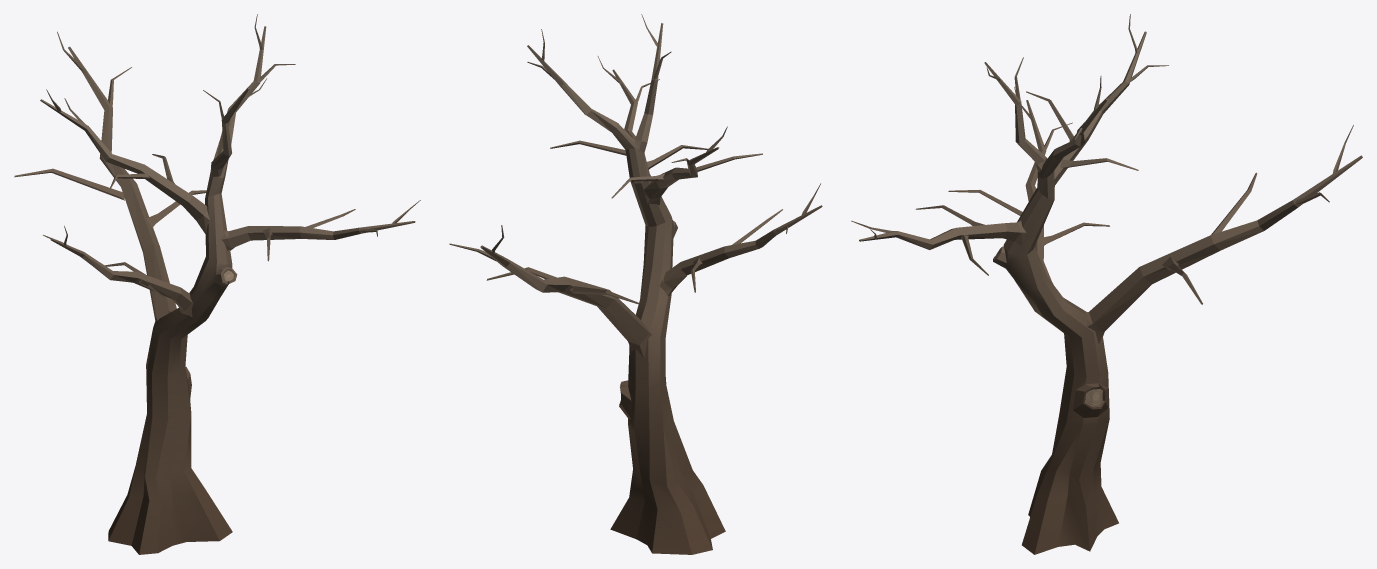
Rendered from PT_Fruit_Tree_01_dead.fbx.
3 views of the same model, side by side, from view 1: azimuth 30°, elevation 25°; view 2: azimuth 150°, elevation 25°; view 3: azimuth 270°, elevation 25° (orthographic). The views are drawn at different scales.
Visible parts, largest first — view 1: PT_Fruit_Tree_01_dead_LOD0; view 2: PT_Fruit_Tree_01_dead_LOD0; view 3: PT_Fruit_Tree_01_dead_LOD0.
Part boxes in pixels (x1,y1,x2,y2): PT_Fruit_Tree_01_dead_LOD0: [14, 14, 420, 554]; PT_Fruit_Tree_01_dead_LOD0: [449, 14, 822, 554]; PT_Fruit_Tree_01_dead_LOD0: [851, 14, 1362, 554].
Size of what is drawn, in the model's own units: 356 by 553 by 505.
